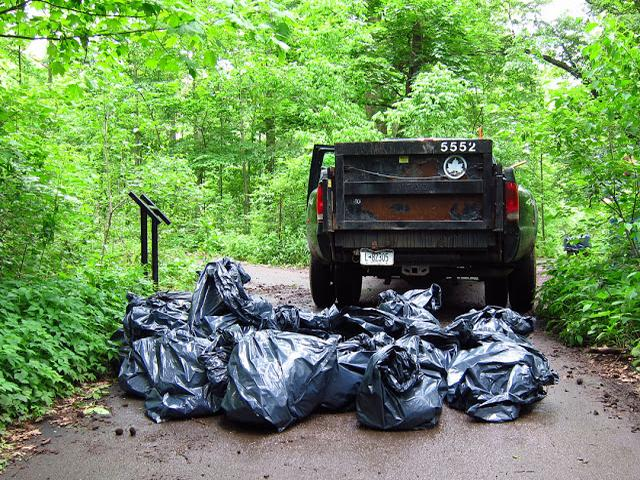garbage: (143, 299, 520, 417)
